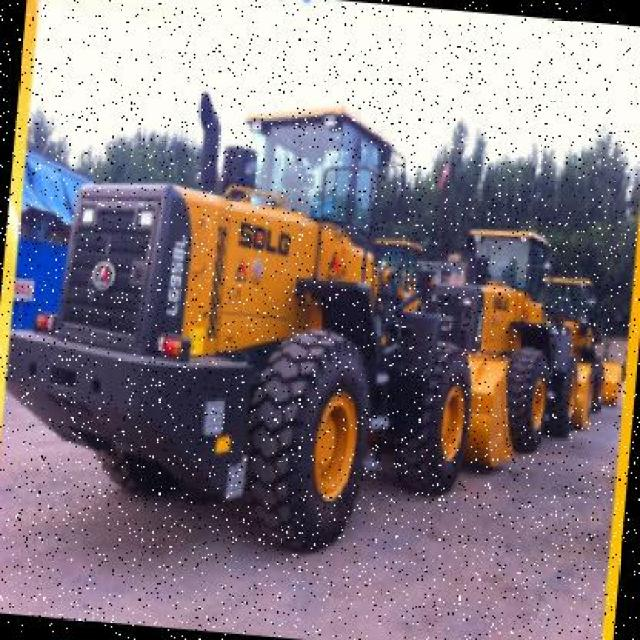buldozerpayloadergrader: (2, 63, 504, 560)
